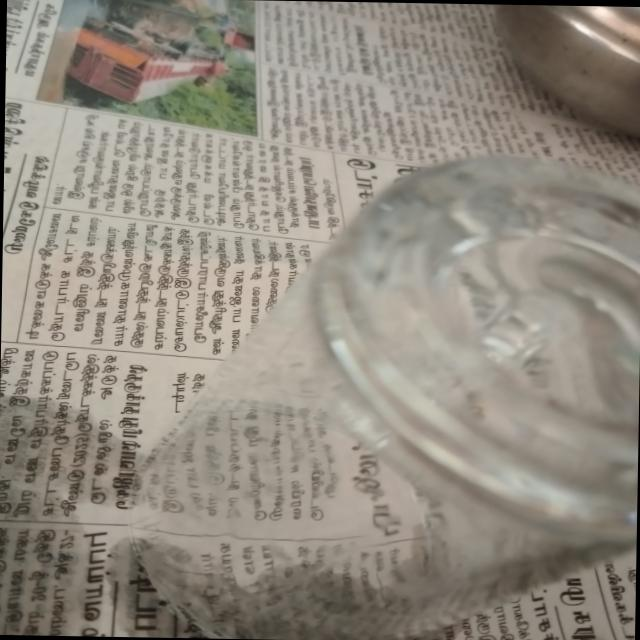glass-VX4N: (129, 145, 640, 640)
